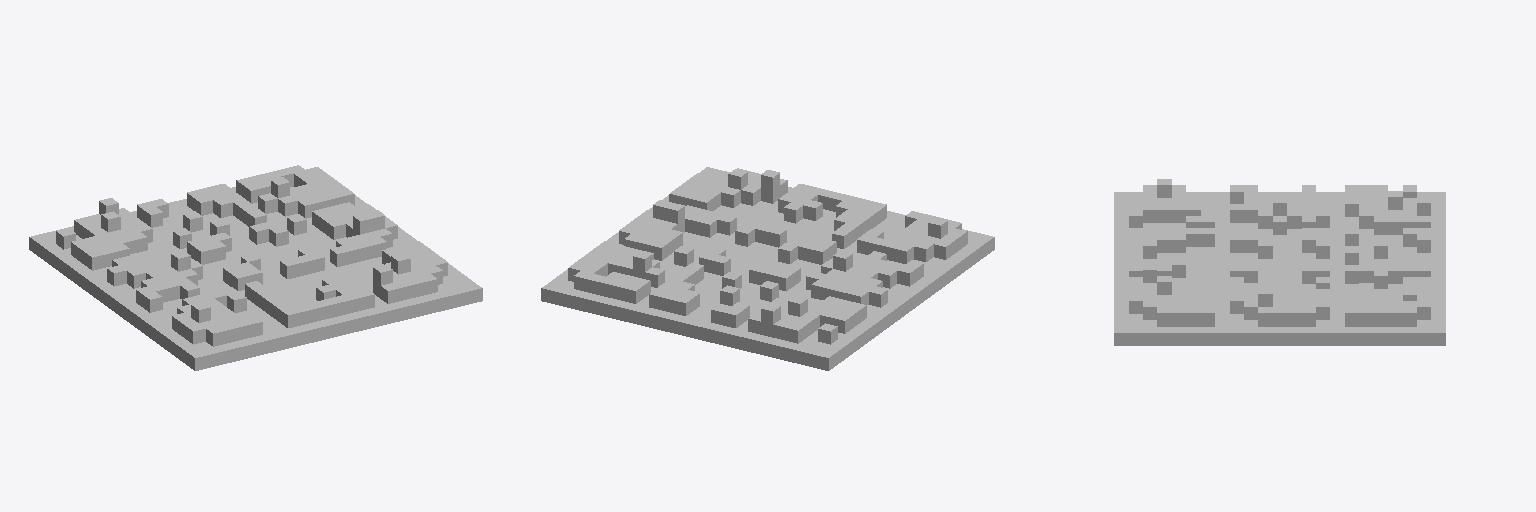
The model's file is Cave Tile 5.obj.
The picture shows the model from 3 angles: view 1: azimuth 30°, elevation 25°; view 2: azimuth 150°, elevation 25°; view 3: azimuth 270°, elevation 25°; orthographic projection.
Visible parts, largest first — view 1: object 1; view 2: object 1; view 3: object 1.
Part boxes in pixels (x1,y1,x2,y2): object 1: (29, 165, 482, 370); object 1: (541, 167, 994, 370); object 1: (1114, 179, 1445, 345).
Bounding box in the file's own units: 2.3 × 0.3 × 2.3.